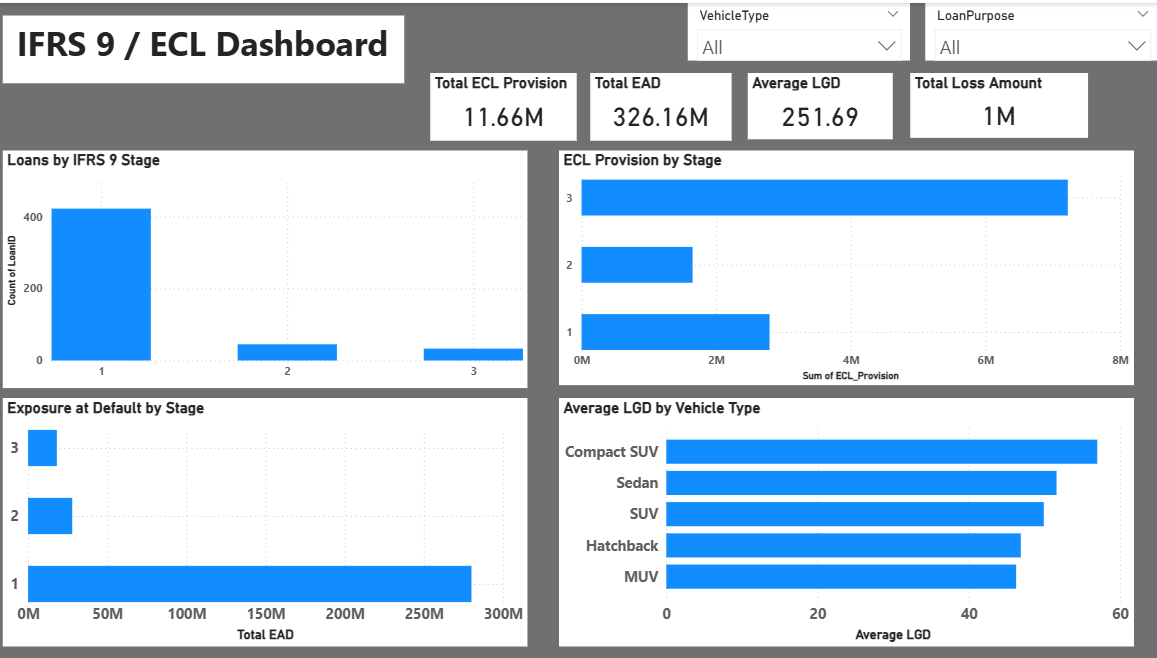

The page's visual inventory and layout, read from the dashboard file:
{"tool":"powerbi","page":{"name":"IFRS 9 / ECL Dashboard","canvas":[1280,720],"ordinal":4},"visuals":[{"type":"textbox","box":[9.6,13.7,440.5,74.1],"z":0},{"type":"card","title":"Total ECL Provision","fields":{"Values":["Sum(Loans.ECL_Provision)"]},"box":[478.9,76.8,160.5,74.1],"z":1},{"type":"card","title":"Average LGD","fields":{"Values":["Sum(Loans.LGD_Estimate)"]},"box":[827.4,76.8,159.2,72.7],"z":3},{"type":"card","title":"Total Loss Amount","fields":{"Values":["Sum(Loans.LossAmount)"]},"box":[1005.8,76.8,194.9,71.4],"z":4},{"type":"card","title":"Total EAD","fields":{"Values":["Sum(Loans.EAD)"]},"box":[654.5,76.8,155.1,74.1],"z":5},{"type":"clusteredColumnChart","title":"Loans by IFRS 9 Stage","fields":{"Category":["Loans.IFRS9_Stage"],"Y":["CountNonNull(Loans.LoanID)"]},"box":[9.6,161.9,576.3,260.7],"z":6},{"type":"clusteredBarChart","title":"ECL Provision by Stage","fields":{"Category":["Loans.IFRS9_Stage"],"Y":["Sum(Loans.ECL_Provision)"]},"box":[620.2,161.9,631.2,258],"z":7},{"type":"clusteredBarChart","title":"Exposure at Default by Stage","fields":{"Category":["Loans.IFRS9_Stage"],"Y":["Sum(Loans.EAD)"]},"box":[9.6,433.6,576.3,273.1],"z":8},{"type":"clusteredBarChart","title":"Average LGD by Vehicle Type","fields":{"Category":["Loans.VehicleType"],"Y":["Sum(Loans.LGD_Estimate)"]},"box":[620,434,631,273],"z":9},{"type":"slicer","fields":{"Values":["Loans.VehicleType"]},"box":[761.6,0,244.3,63.1],"z":10},{"type":"slicer","fields":{"Values":["Loans.LoanPurpose"]},"box":[1022.3,0,258,63.1],"z":11}]}

Visuals, with their boxes in screenshot pixels (x1, y1, x2, y2), scaled from the page's 1280x720 canvas onto the 1157x658 screenshot:
textbox: (x1=9, y1=13, x2=407, y2=80)
"Total ECL Provision" card: (x1=433, y1=70, x2=578, y2=138)
"Average LGD" card: (x1=748, y1=70, x2=892, y2=137)
"Total Loss Amount" card: (x1=909, y1=70, x2=1085, y2=135)
"Total EAD" card: (x1=592, y1=70, x2=732, y2=138)
"Loans by IFRS 9 Stage" clusteredColumnChart: (x1=9, y1=148, x2=530, y2=386)
"ECL Provision by Stage" clusteredBarChart: (x1=561, y1=148, x2=1131, y2=384)
"Exposure at Default by Stage" clusteredBarChart: (x1=9, y1=396, x2=530, y2=646)
"Average LGD by Vehicle Type" clusteredBarChart: (x1=560, y1=397, x2=1131, y2=646)
slicer - Loans.VehicleType: (x1=688, y1=0, x2=909, y2=58)
slicer - Loans.LoanPurpose: (x1=924, y1=0, x2=1156, y2=58)
